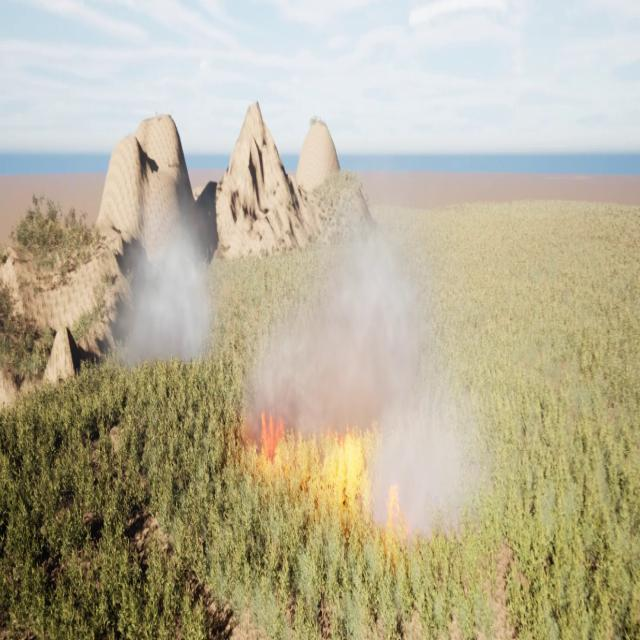fire: (306, 426, 374, 500), (255, 409, 286, 456), (383, 486, 406, 539)
smoke: (242, 192, 492, 537), (117, 201, 216, 369)
